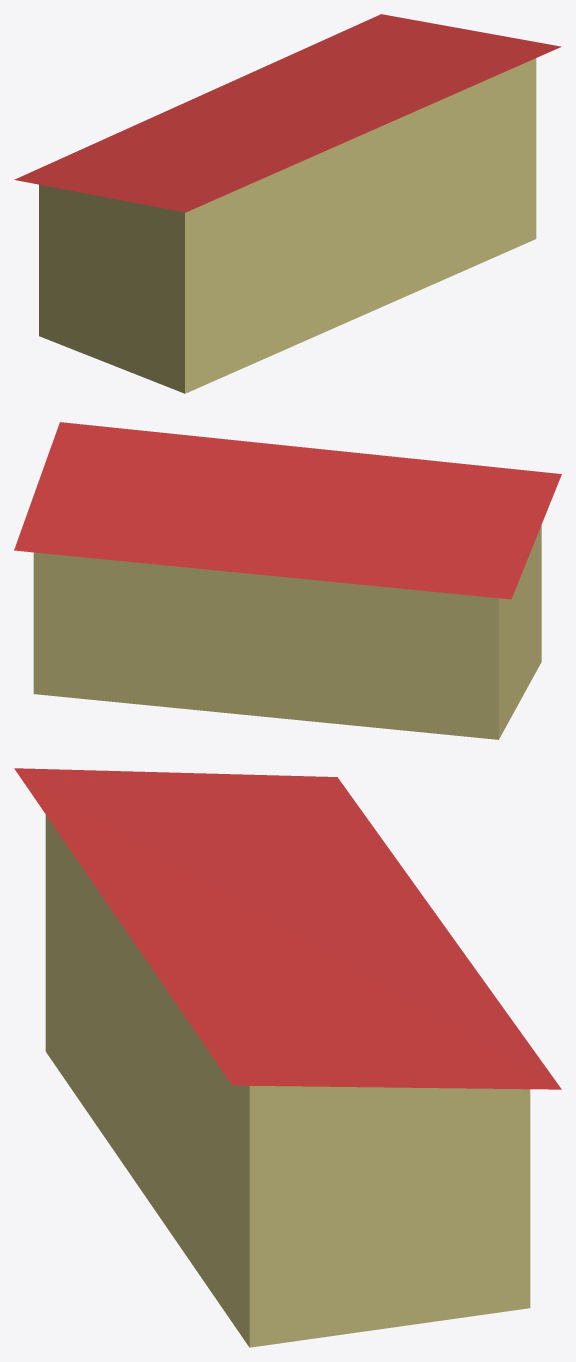
3 renders of one model, top to bottom at view 1: azimuth 30°, elevation 25°; view 2: azimuth 150°, elevation 25°; view 3: azimuth 270°, elevation 25°, orthographic. The views are drawn at different scales.
Size of the model in its own units: 25 by 16.12 by 8.96.
